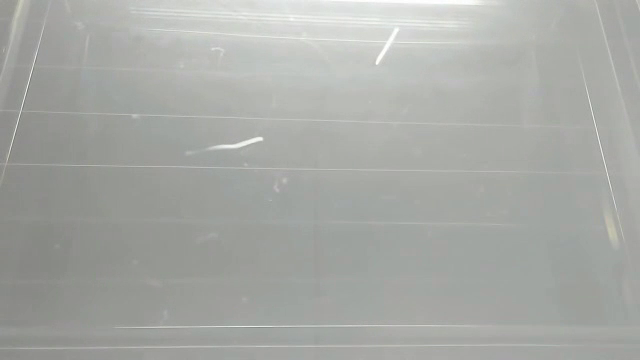alpha: (182, 134, 267, 159), (370, 25, 406, 69)
